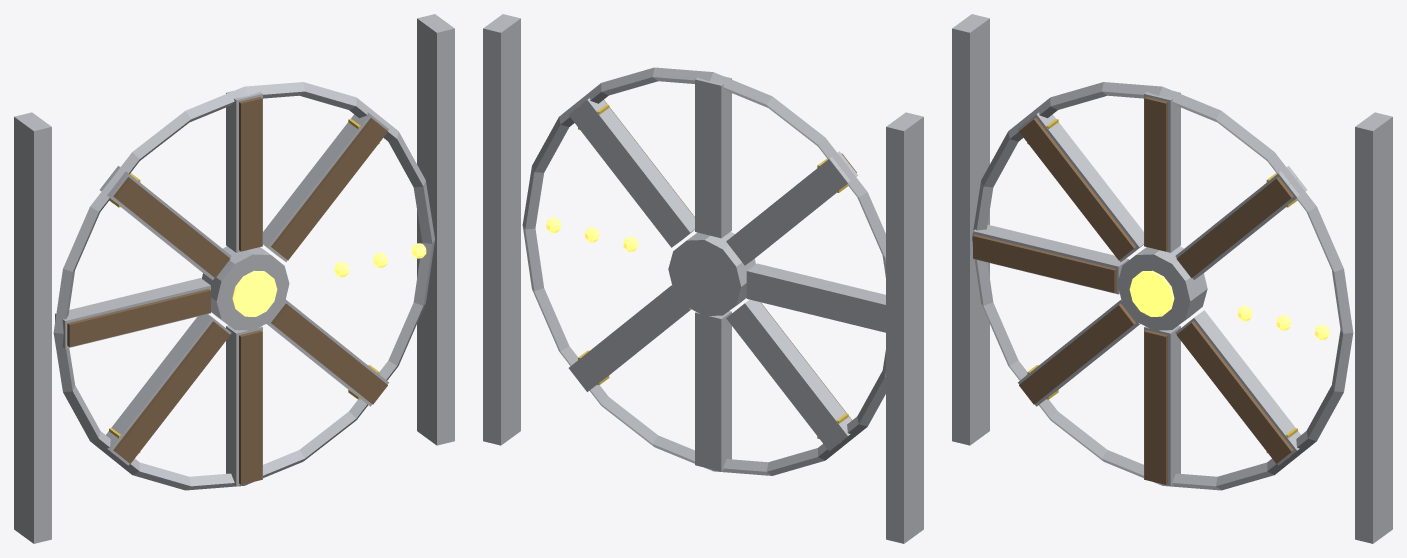
Rendered from 17_rose_ring.glb.
3 views of the same model, side by side, from view 1: azimuth 30°, elevation 25°; view 2: azimuth 150°, elevation 25°; view 3: azimuth 330°, elevation 25° (orthographic).
Visible parts, largest first — view 1: 17_rose_ring_root_steel, 17_rose_ring_rosescaffoldring_oak_nocol, 17_rose_ring_rosescaffoldring_steel_nocol, rose_bay_5, rose_bay_1, rose_bay_4, rose_bay_2, rose_bay_6, rose_ring_hub_signal, rose_bay_3, rose_bay_7, 17_rose_ring_rosescaffoldring_signal_nocol; view 2: 17_rose_ring_root_steel, 17_rose_ring_rosescaffoldring_steel_nocol, rose_bay_1, rose_bay_5, rose_bay_2, rose_bay_6, rose_bay_4, rose_bay_3, rose_bay_7, 17_rose_ring_rosescaffoldring_signal_nocol; view 3: 17_rose_ring_root_steel, 17_rose_ring_rosescaffoldring_oak_nocol, 17_rose_ring_rosescaffoldring_steel_nocol, rose_bay_7, rose_bay_3, rose_bay_2, rose_bay_4, rose_bay_6, rose_ring_hub_signal, rose_bay_1, rose_bay_5, 17_rose_ring_rosescaffoldring_signal_nocol.
Part boxes in pixels (x1=…): 17_rose_ring_root_steel: x1=14, y1=14, x2=454, y2=543; 17_rose_ring_rosescaffoldring_oak_nocol: x1=67, y1=97, x2=387, y2=484; 17_rose_ring_rosescaffoldring_steel_nocol: x1=53, y1=82, x2=434, y2=490; rose_bay_5: x1=106, y1=314, x2=231, y2=465; rose_bay_1: x1=263, y1=112, x2=388, y2=261; rose_bay_4: x1=55, y1=278, x2=210, y2=348; rose_bay_2: x1=226, y1=91, x2=262, y2=252; rose_bay_6: x1=226, y1=325, x2=262, y2=485; rose_ring_hub_signal: x1=232, y1=270, x2=277, y2=316; rose_bay_3: x1=99, y1=166, x2=231, y2=279; rose_bay_7: x1=266, y1=299, x2=388, y2=406; 17_rose_ring_rosescaffoldring_signal_nocol: x1=334, y1=243, x2=426, y2=277; 17_rose_ring_root_steel: x1=483, y1=14, x2=923, y2=543; 17_rose_ring_rosescaffoldring_steel_nocol: x1=522, y1=67, x2=885, y2=475; rose_bay_1: x1=568, y1=98, x2=694, y2=247; rose_bay_5: x1=726, y1=299, x2=851, y2=450; rose_bay_2: x1=695, y1=76, x2=731, y2=238; rose_bay_6: x1=695, y1=311, x2=731, y2=471; rose_bay_4: x1=746, y1=263, x2=885, y2=332; rose_bay_3: x1=726, y1=151, x2=857, y2=265; rose_bay_7: x1=568, y1=285, x2=691, y2=391; 17_rose_ring_rosescaffoldring_signal_nocol: x1=546, y1=218, x2=637, y2=251; 17_rose_ring_root_steel: x1=952, y1=14, x2=1392, y2=543; 17_rose_ring_rosescaffoldring_oak_nocol: x1=973, y1=97, x2=1293, y2=484; 17_rose_ring_rosescaffoldring_steel_nocol: x1=972, y1=82, x2=1353, y2=490; rose_bay_7: x1=1175, y1=310, x2=1300, y2=465; rose_bay_3: x1=1018, y1=112, x2=1143, y2=261; rose_bay_2: x1=1144, y1=91, x2=1180, y2=252; rose_bay_4: x1=973, y1=224, x2=1129, y2=294; rose_bay_6: x1=1144, y1=325, x2=1180, y2=485; rose_ring_hub_signal: x1=1129, y1=270, x2=1174, y2=316; rose_bay_1: x1=1175, y1=166, x2=1307, y2=279; rose_bay_5: x1=1018, y1=299, x2=1140, y2=406; 17_rose_ring_rosescaffoldring_signal_nocol: x1=1238, y1=306, x2=1329, y2=339.
Size of the model in its own units: 19.64 by 18.4 by 2.53.
